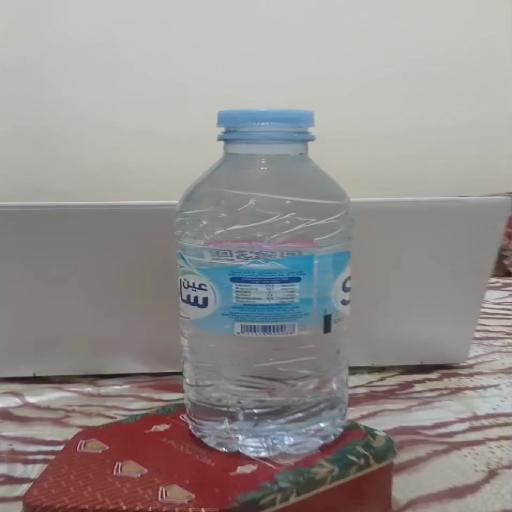bouteille non conformite: (175, 82, 354, 458), (186, 93, 334, 158)
